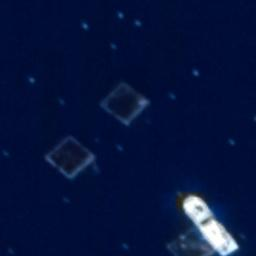square_cover: (42, 133, 100, 183), (97, 78, 153, 128), (167, 221, 220, 256)
